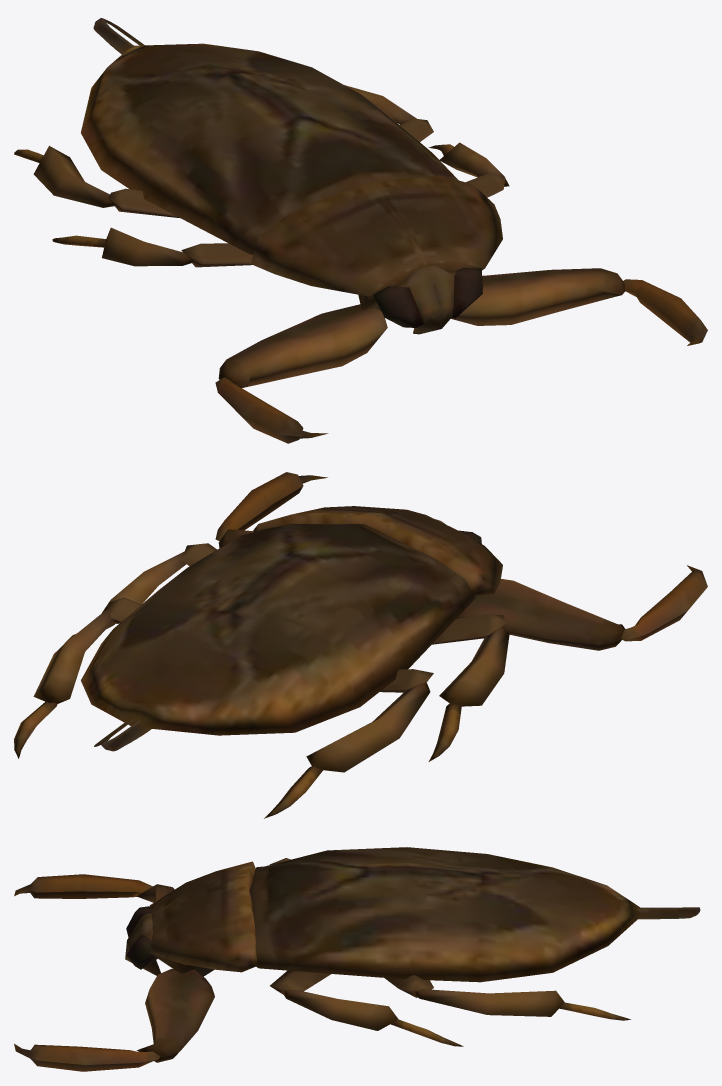
The model's file is giant-water-bug.glb.
3 renders of one model, top to bottom at view 1: azimuth 30°, elevation 25°; view 2: azimuth 150°, elevation 25°; view 3: azimuth 270°, elevation 25°, orthographic. The views are drawn at different scales.
Size of the model in its own units: 3.51 by 1.04 by 5.63.
Materials: 1 (1 with a texture image).
